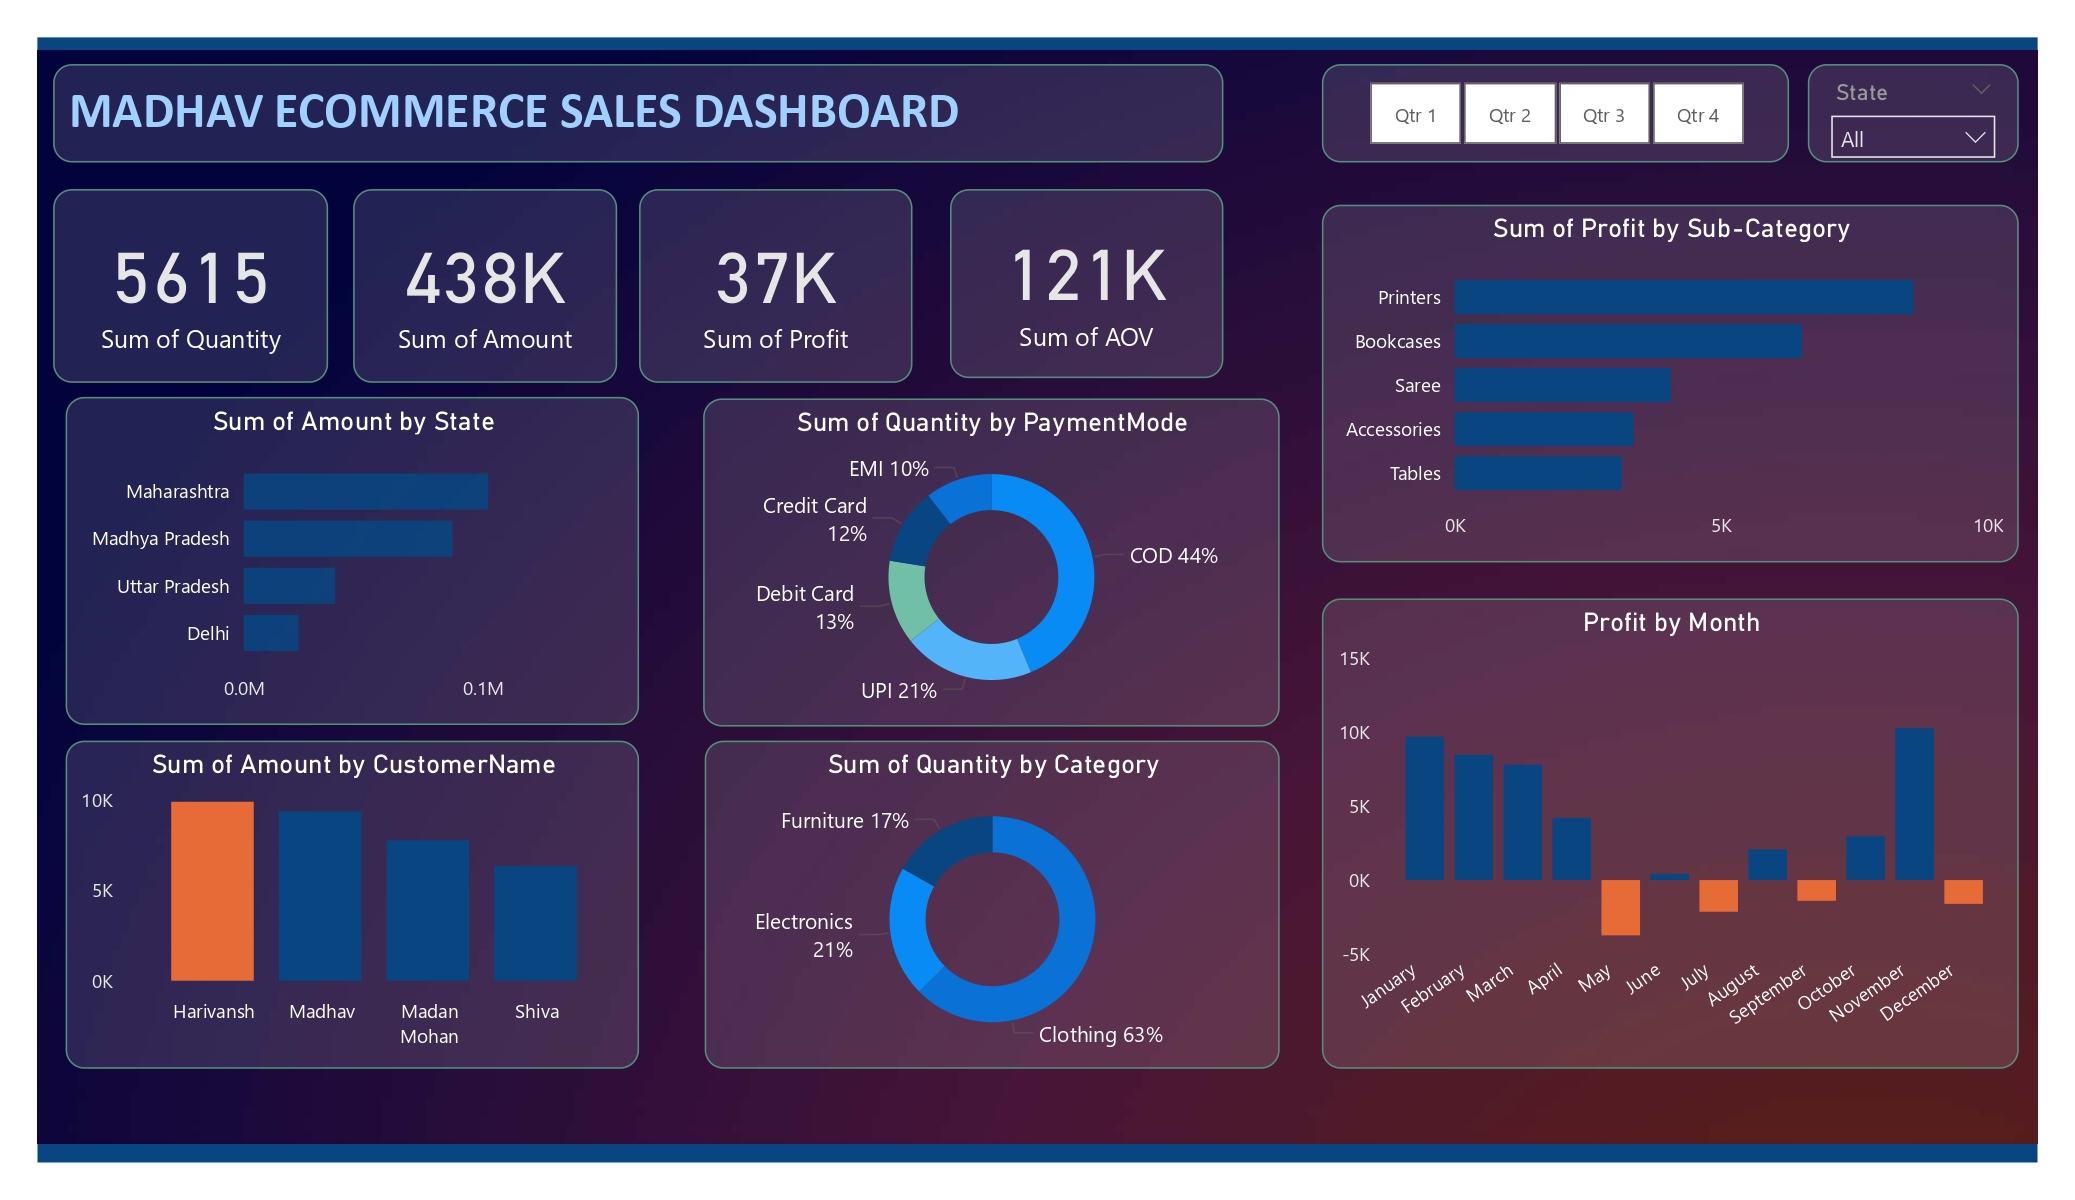

What the dashboard file says about the page in this screenshot:
{"tool":"powerbi","page":{"name":"Page 1","canvas":[1280,720],"ordinal":0},"visuals":[{"type":"textbox","box":[9.5,17.5,749.2,62],"z":0},{"type":"columnChart","title":"Profit by Month","fields":{"Category":["Orders.Order Date.Variation.Date Hierarchy.Month"],"Y":["Details.Profit"]},"box":[822.3,359.5,445.4,300.6],"z":1000},{"type":"barChart","fields":{"Category":["Details.Sub-Category"],"Y":["Details.Profit"]},"box":[822.3,106.6,445.4,229],"z":2000},{"type":"donutChart","fields":{"Category":["Details.Category"],"Y":["Details.Quantity"]},"box":[426.7,450,368.3,210],"z":3000},{"type":"donutChart","fields":{"Category":["Details.PaymentMode"],"Y":["Details.Quantity"]},"box":[426.3,230.6,369,210],"z":4000},{"type":"card","fields":{"Values":["Details.Amount"]},"box":[202,97,168.6,124.1],"z":5000},{"type":"card","fields":{"Values":["Details.Quantity"]},"box":[9.5,97,176.6,124.1],"z":6000},{"type":"card","fields":{"Values":["Details.Profit"]},"box":[384.9,97,175,124.1],"z":7000},{"type":"card","fields":{"Values":["Details.AOV"]},"box":[583.8,97,175,120.9],"z":8000},{"type":"barChart","fields":{"Category":["Orders.State"],"Y":["Details.Amount"]},"box":[18.3,230,366.7,210],"z":9000},{"type":"columnChart","fields":{"Category":["Orders.CustomerName"],"Y":["Details.Amount"]},"box":[18,450,367,210],"z":10000},{"type":"slicer","fields":{"Values":["Orders.Order Date.Variation.Date Hierarchy.Quarter"]},"box":[822.3,17.5,299,62],"z":11000},{"type":"slicer","fields":{"Values":["Orders.State"]},"box":[1132.5,17.5,135.2,62],"z":12000}]}

Visuals, with their boxes on the page's 1280x720 design canvas (x1, y1, x2, y2). These are canvas units, not pixel positions in the 2075x1200 screenshot, which may show the page scaled, cropped or inside an application window:
textbox: [10, 18, 759, 80]
"Profit by Month" columnChart: [822, 360, 1268, 660]
barChart - Details.Sub-Category x Details.Profit: [822, 107, 1268, 336]
donutChart - Details.Category x Details.Quantity: [427, 450, 795, 660]
donutChart - Details.PaymentMode x Details.Quantity: [426, 231, 795, 441]
card - Details.Amount: [202, 97, 371, 221]
card - Details.Quantity: [10, 97, 186, 221]
card - Details.Profit: [385, 97, 560, 221]
card - Details.AOV: [584, 97, 759, 218]
barChart - Orders.State x Details.Amount: [18, 230, 385, 440]
columnChart - Orders.CustomerName x Details.Amount: [18, 450, 385, 660]
slicer - Orders.Order Date.Variation.Date Hierarchy.Quarter: [822, 18, 1121, 80]
slicer - Orders.State: [1132, 18, 1268, 80]
